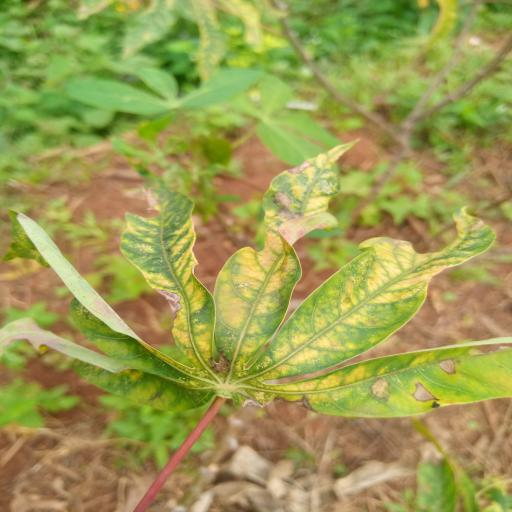Cassava_Mosaic: (28, 143, 512, 427)
